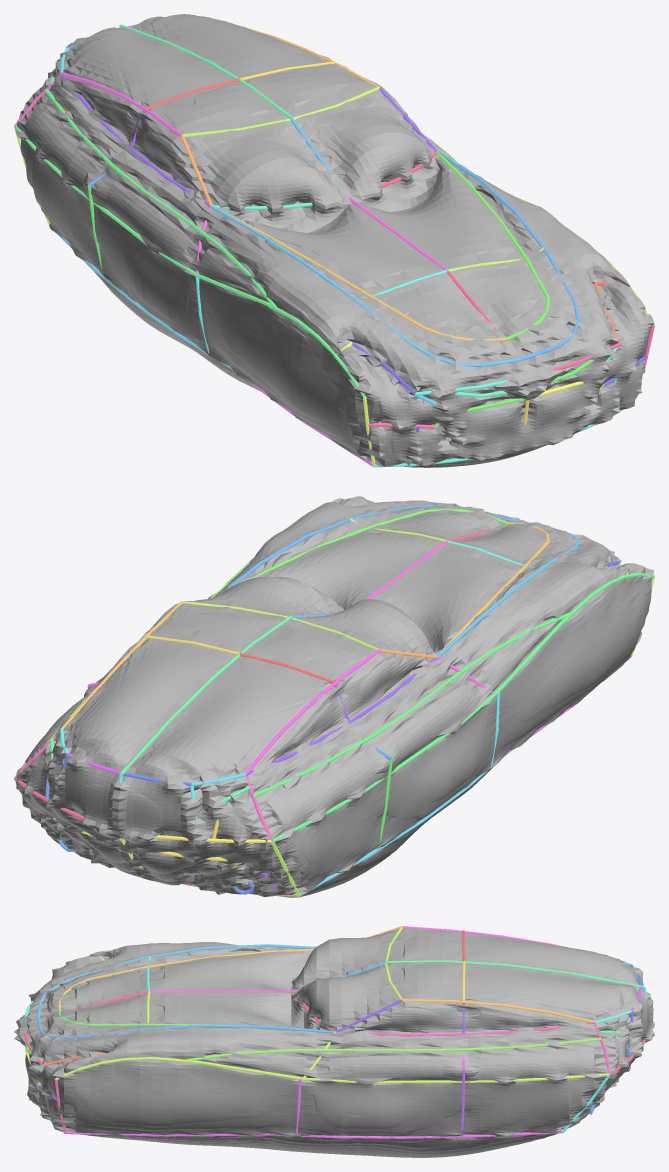
The model's file is ils_car1.gltf.
3 renders of one model, top to bottom at view 1: azimuth 30°, elevation 25°; view 2: azimuth 150°, elevation 25°; view 3: azimuth 270°, elevation 25°, orthographic. The views are drawn at different scales.
Bounding box in the file's own units: 0.3962 × 0.2854 × 0.9253.
